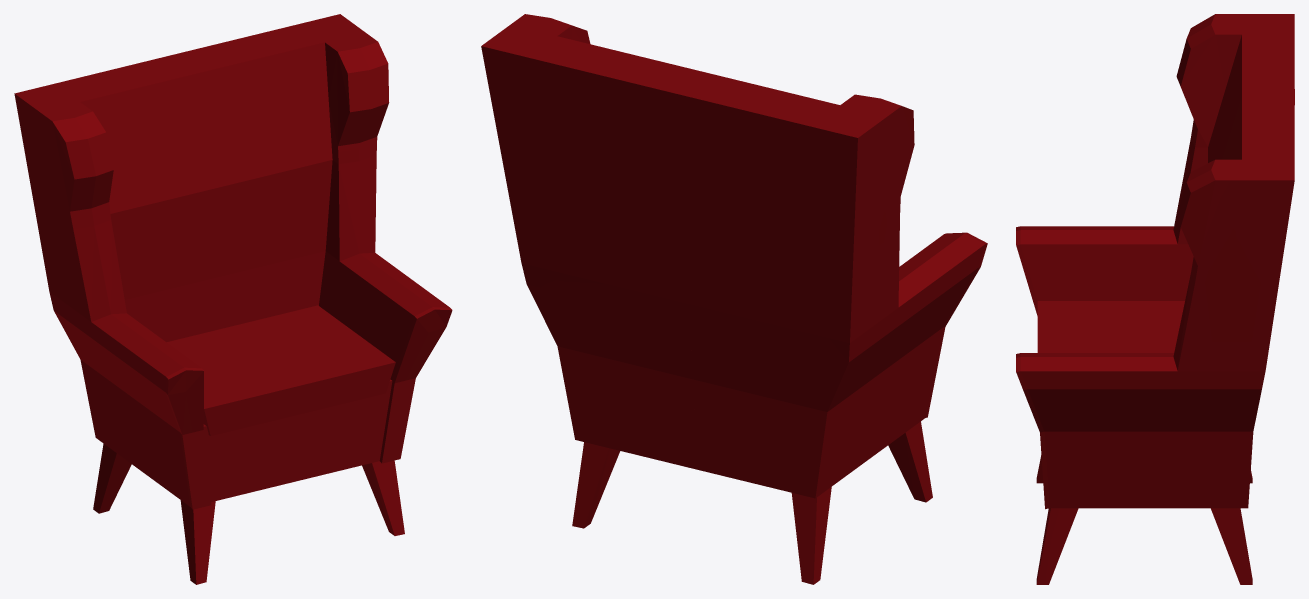
Rendered from Armchair.obj.
The picture shows the model from 3 angles, left to right: view 1: azimuth 30°, elevation 25°; view 2: azimuth 150°, elevation 25°; view 3: azimuth 270°, elevation 25°; orthographic projection. The views are drawn at different scales.
Visible parts, largest first — view 1: Cube.002_Cube, Cube.003_Cube.001, Cube.004_Cube.002; view 2: Cube.002_Cube, Cube.004_Cube.002; view 3: Cube.002_Cube, Cube.003_Cube.001, Cube.004_Cube.002.
Boxes of the visible parts, x1,y1,x2,y2 form: Cube.002_Cube: [14, 14, 452, 509]; Cube.003_Cube.001: [167, 305, 395, 435]; Cube.004_Cube.002: [93, 443, 404, 584]; Cube.002_Cube: [481, 14, 987, 498]; Cube.004_Cube.002: [572, 421, 932, 584]; Cube.002_Cube: [1016, 14, 1294, 509]; Cube.003_Cube.001: [1037, 301, 1184, 352]; Cube.004_Cube.002: [1036, 455, 1252, 584].
Size of the model in its own units: 1.41 by 1.72 by 1.
1 material, 1 textured.
